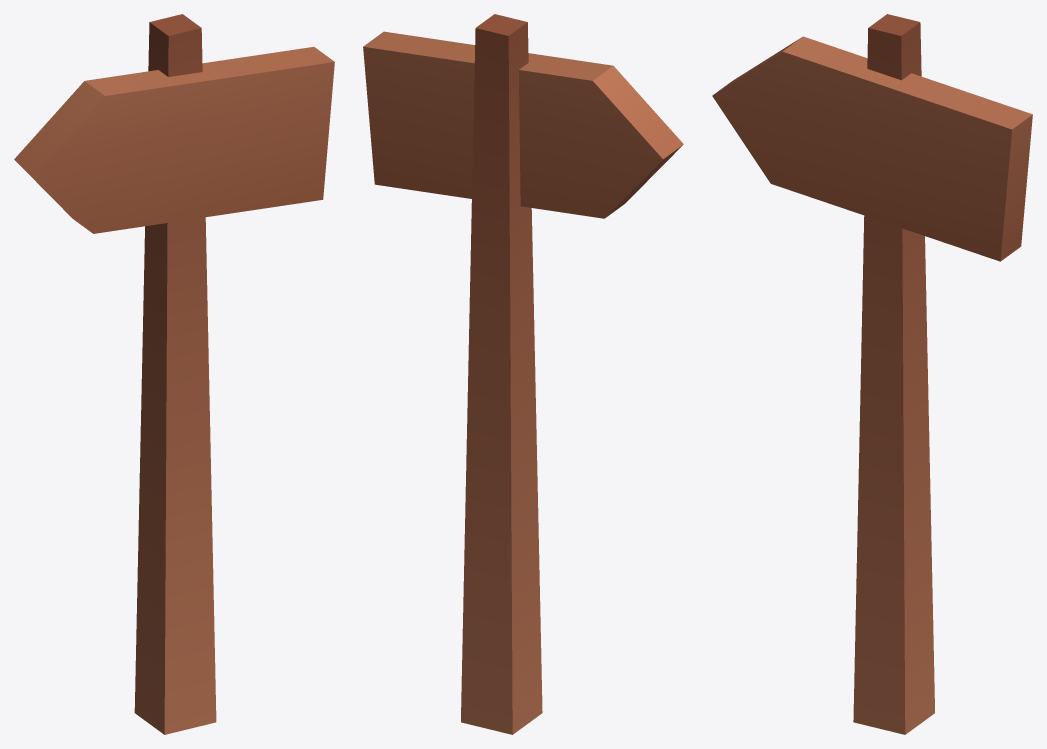
File: sk_signpost-single.glb
3 views of the same model, side by side, from view 1: azimuth 30°, elevation 25°; view 2: azimuth 150°, elevation 25°; view 3: azimuth 330°, elevation 25° (orthographic).
Visible parts, largest first — view 1: signpost-single; view 2: signpost-single; view 3: signpost-single.
Boxes of the visible parts, <box> form: signpost-single: <box>14,14,334,734</box>; signpost-single: <box>363,14,683,734</box>; signpost-single: <box>712,14,1032,734</box>.
Size of the model in its own units: 0.2086 by 0.4601 by 0.043.
